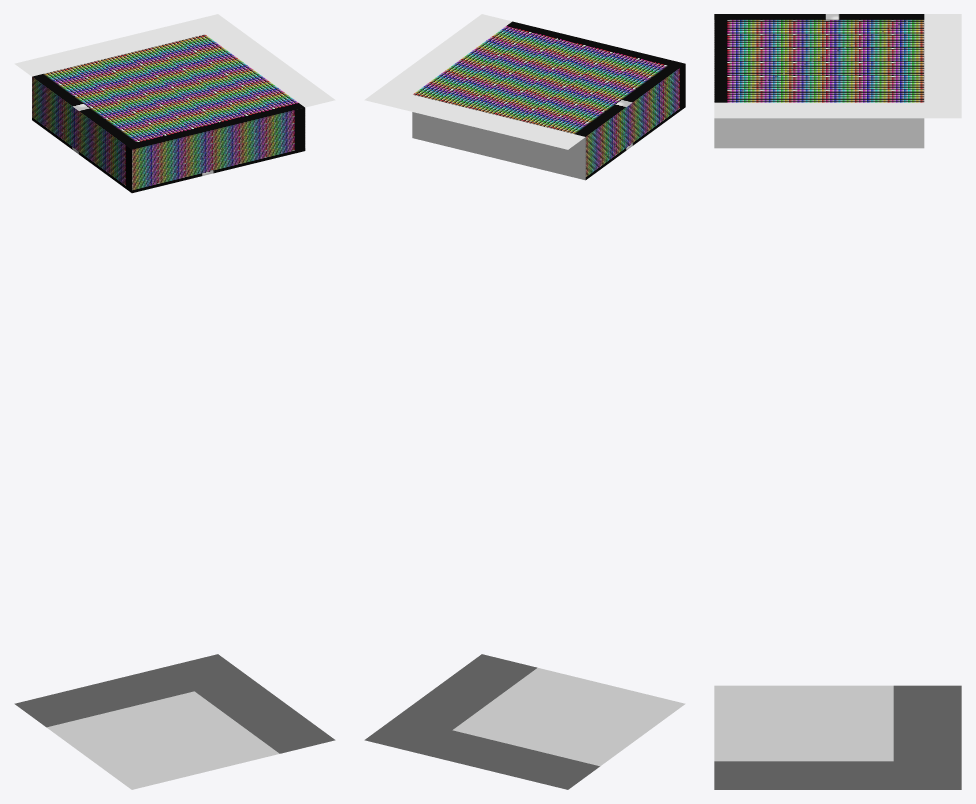
Rendered from ground_corner_2.fbx.
3 views of the same model, side by side, from view 1: azimuth 30°, elevation 25°; view 2: azimuth 150°, elevation 25°; view 3: azimuth 270°, elevation 25° (orthographic). The views are drawn at different scales.
Visible parts, largest first — view 1: shadowsOnly, ground_corner_2, ceiling_corner_2; view 2: shadowsOnly, ground_corner_2, ceiling_corner_2; view 3: ground_corner_2, shadowsOnly, ceiling_corner_2.
Part boxes in pixels (x1=…): shadowsOnly: x1=32, y1=34, x2=305, y2=193; ground_corner_2: x1=14, y1=654, x2=335, y2=789; ceiling_corner_2: x1=14, y1=14, x2=335, y2=107; shadowsOnly: x1=412, y1=21, x2=685, y2=180; ground_corner_2: x1=364, y1=654, x2=685, y2=789; ceiling_corner_2: x1=364, y1=14, x2=585, y2=151; ground_corner_2: x1=714, y1=685, x2=961, y2=789; shadowsOnly: x1=714, y1=14, x2=924, y2=148; ceiling_corner_2: x1=714, y1=14, x2=961, y2=124.
Size of what is drawn, in the model's own units: 100 by 300 by 100.
